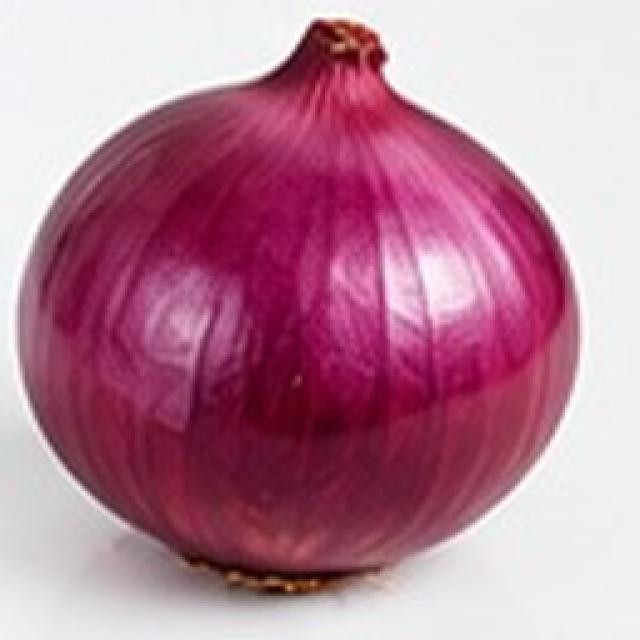healthy: (2, 2, 610, 640), (25, 20, 577, 586), (315, 210, 320, 217)
